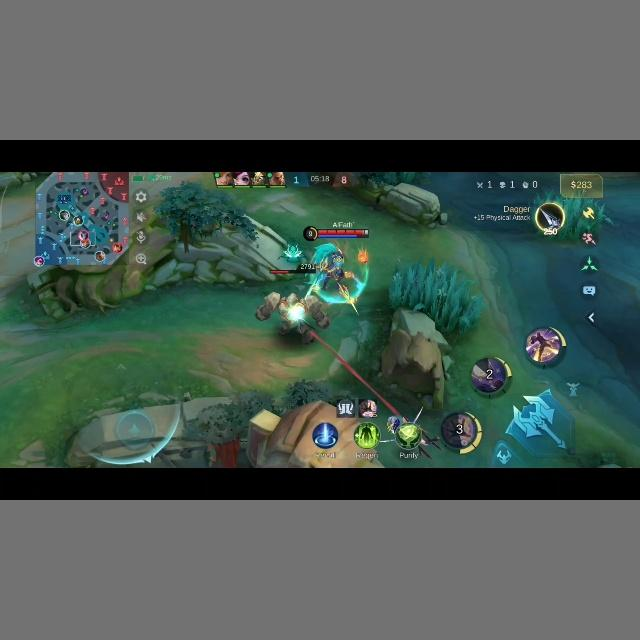hero_enemy: (319, 247, 355, 296)
hp_enemy: (302, 223, 373, 240), (266, 266, 314, 276)
jungle-monstr: (262, 288, 313, 342)
